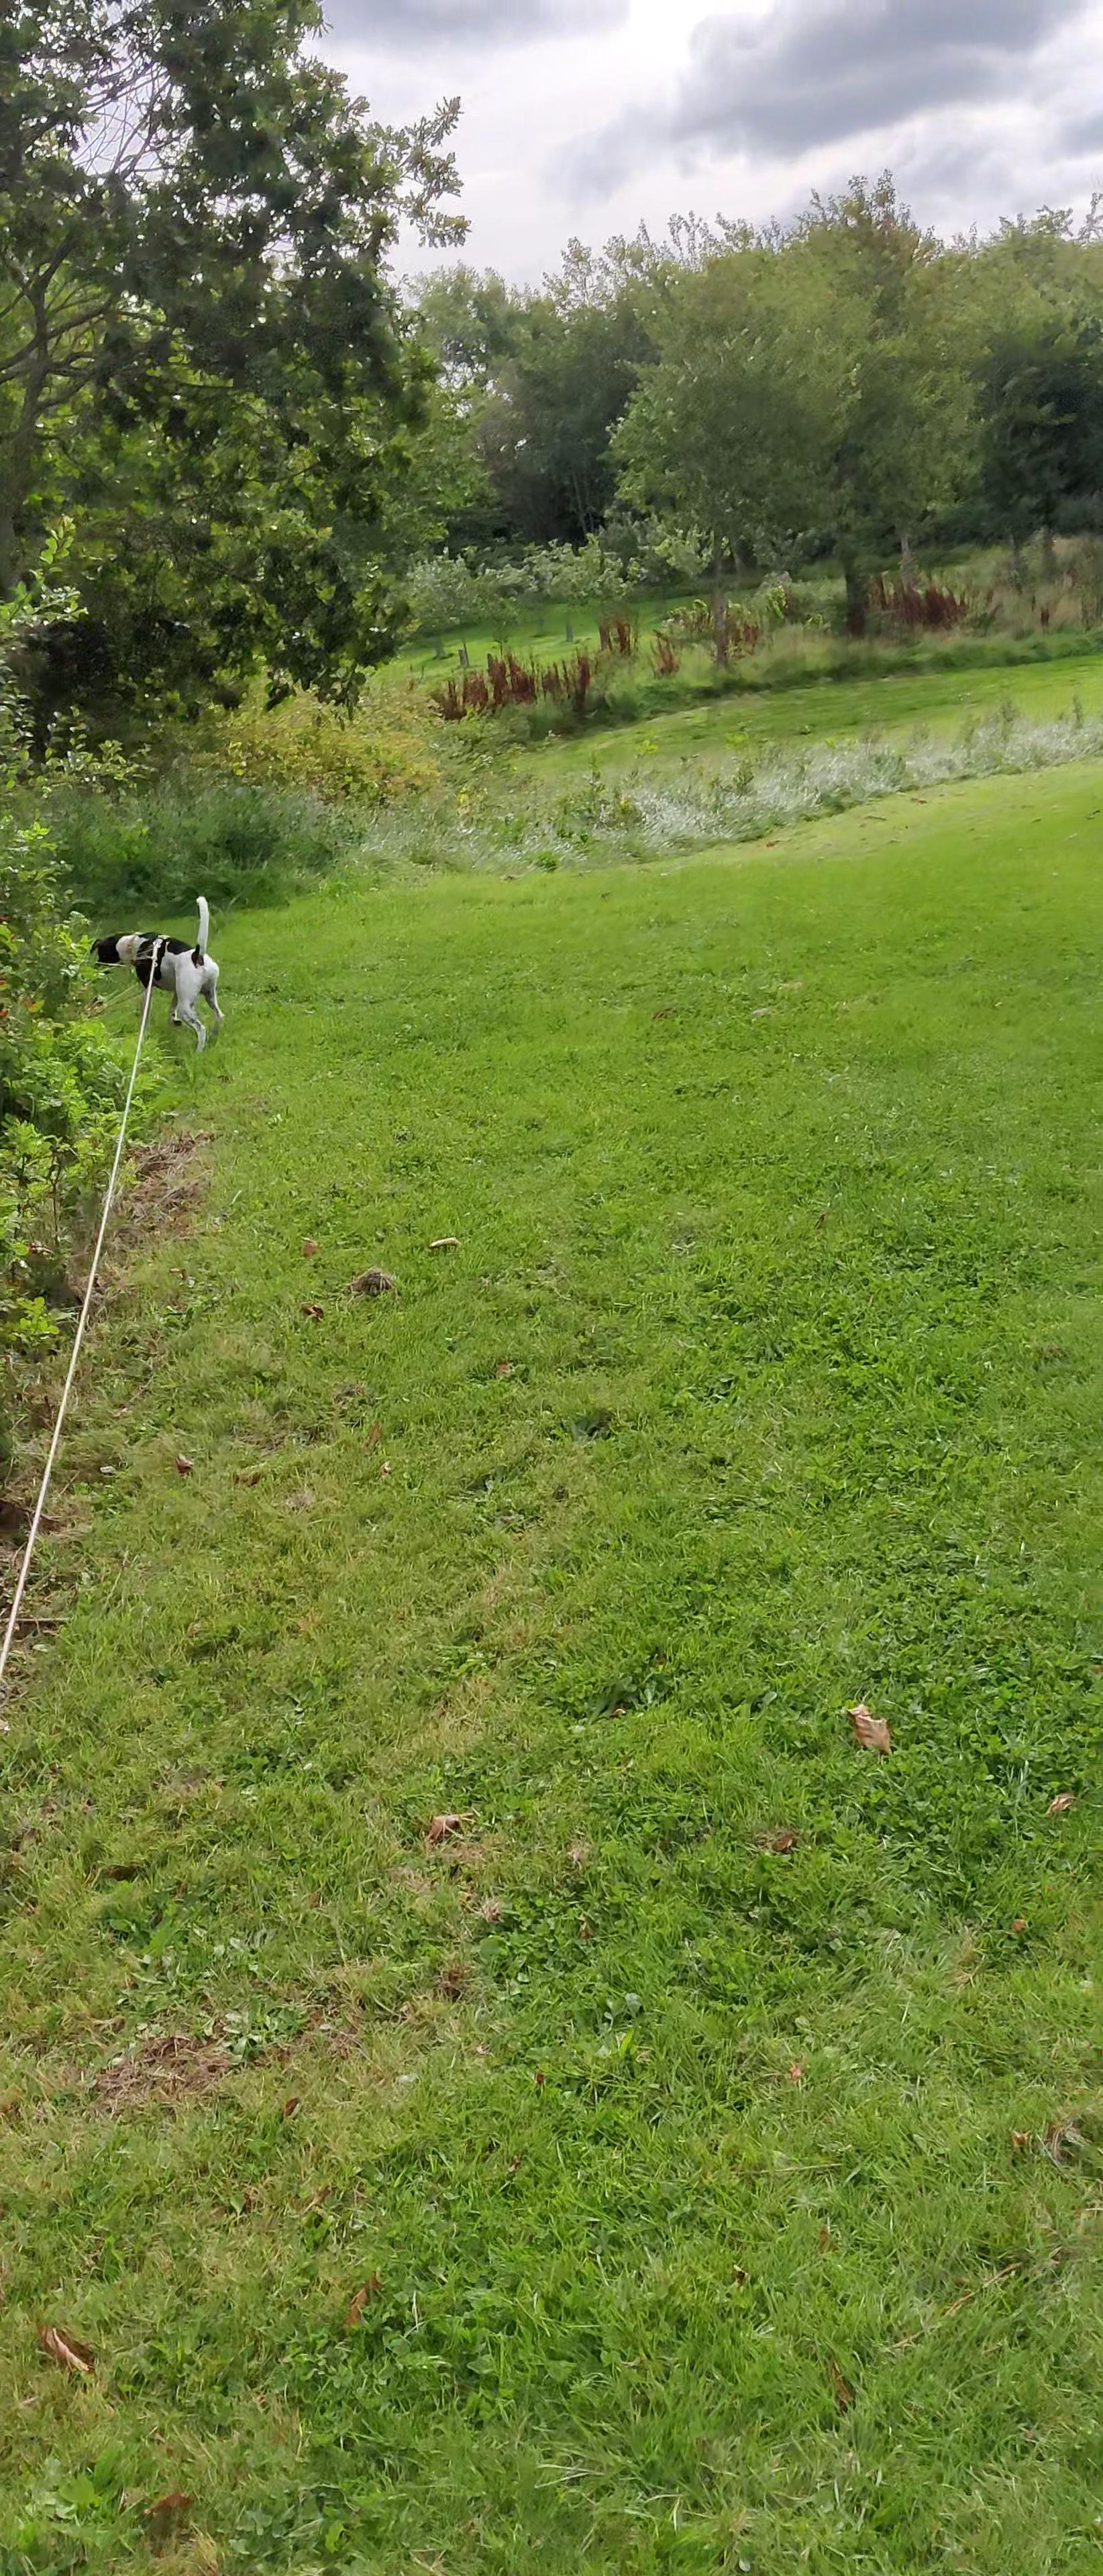Dog: (82, 889, 235, 1061)
